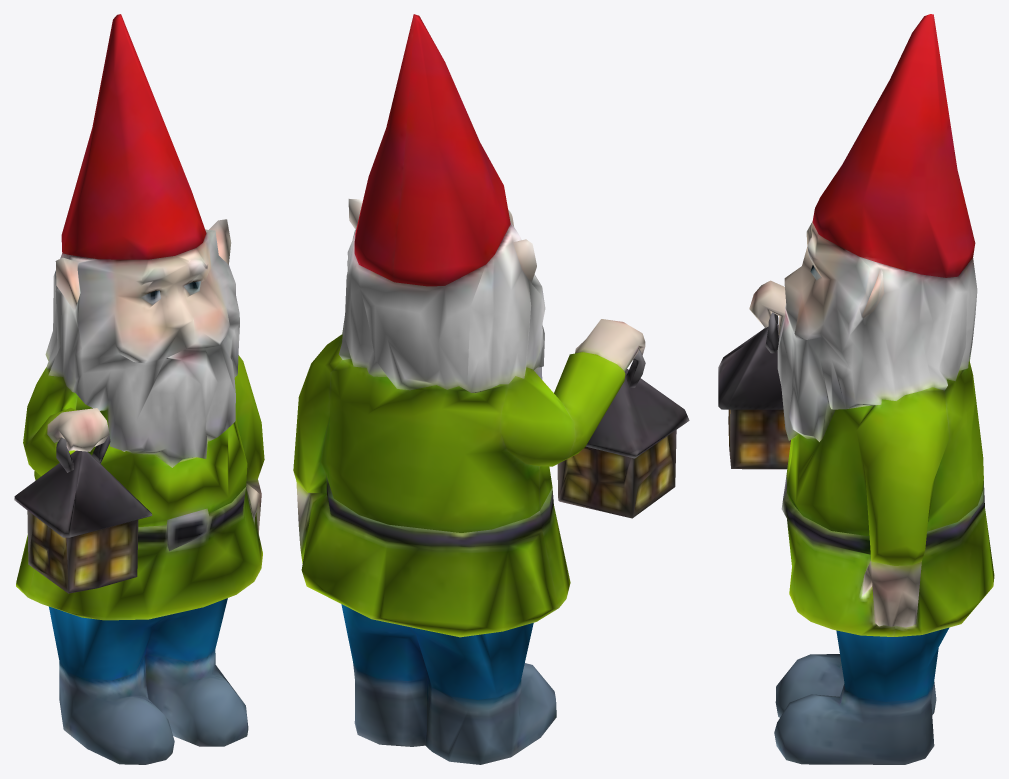
The model's file is gnome.glb.
The picture shows the model from 3 angles, left to right: view 1: azimuth 30°, elevation 25°; view 2: azimuth 150°, elevation 25°; view 3: azimuth 270°, elevation 25°; orthographic projection. The views are drawn at different scales.
Parts seen in each view (by area): view 1: garden_gnome; view 2: garden_gnome; view 3: garden_gnome.
Part boxes in pixels (x1,y1,x2,y2): garden_gnome: [14, 14, 264, 764]; garden_gnome: [293, 14, 689, 764]; garden_gnome: [718, 14, 994, 764].
Bounding box in the file's own units: 0.2553 × 0.5983 × 0.2087.
Materials: 1 (1 with a texture image).
